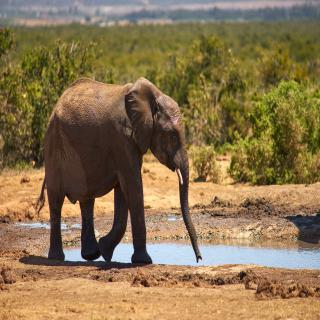Elephant: (36, 72, 208, 270)
